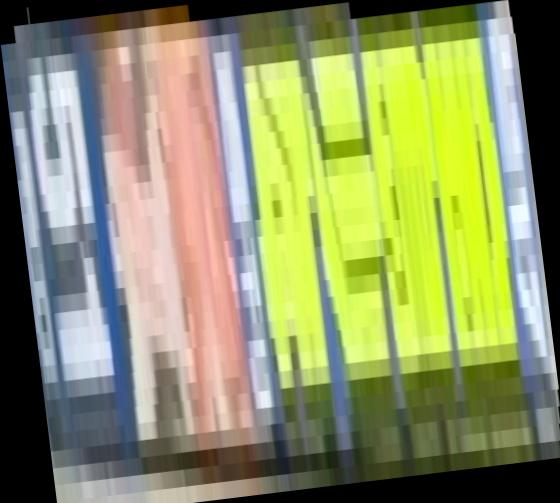flat: (1, 1, 560, 503)
